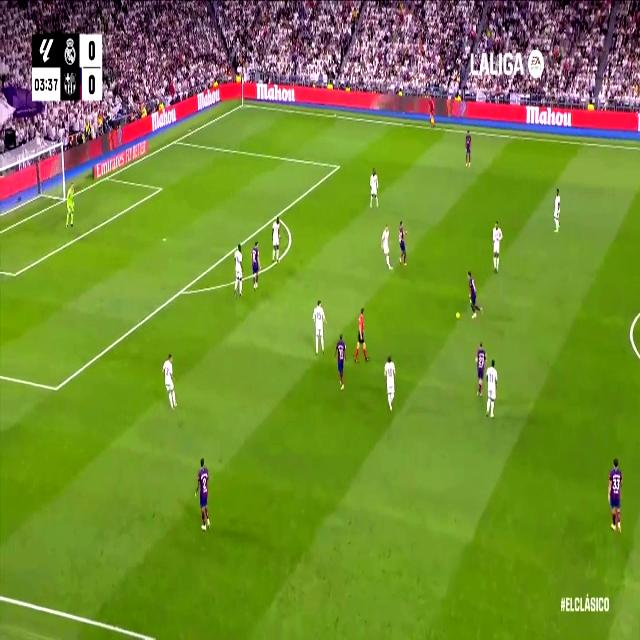bigarea_bottom_inner: (51, 376, 61, 400)
bigarea_top_inner: (335, 159, 340, 173)
bigarea_top_outter: (172, 135, 178, 145)
bottom_arc_area_intersection: (176, 282, 186, 300)
corner: (240, 99, 247, 108)
smallarea_top_inner: (158, 183, 162, 193)
top_arc_area_intersection: (274, 209, 280, 222)
